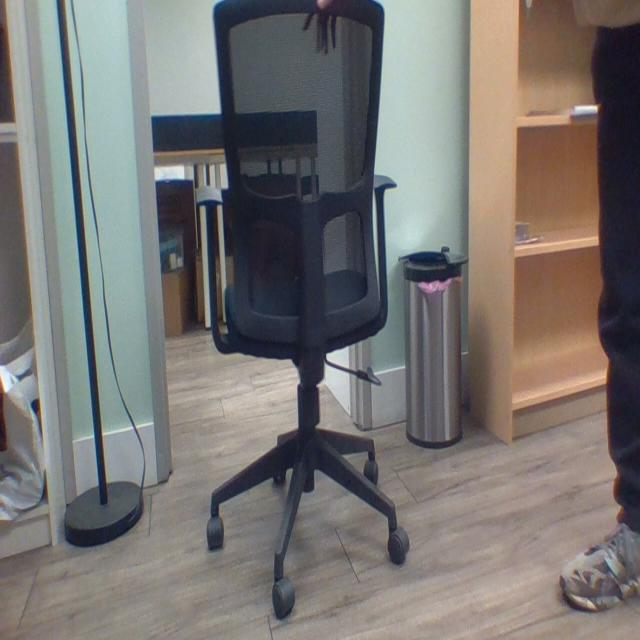black-chair: (198, 3, 414, 617)
